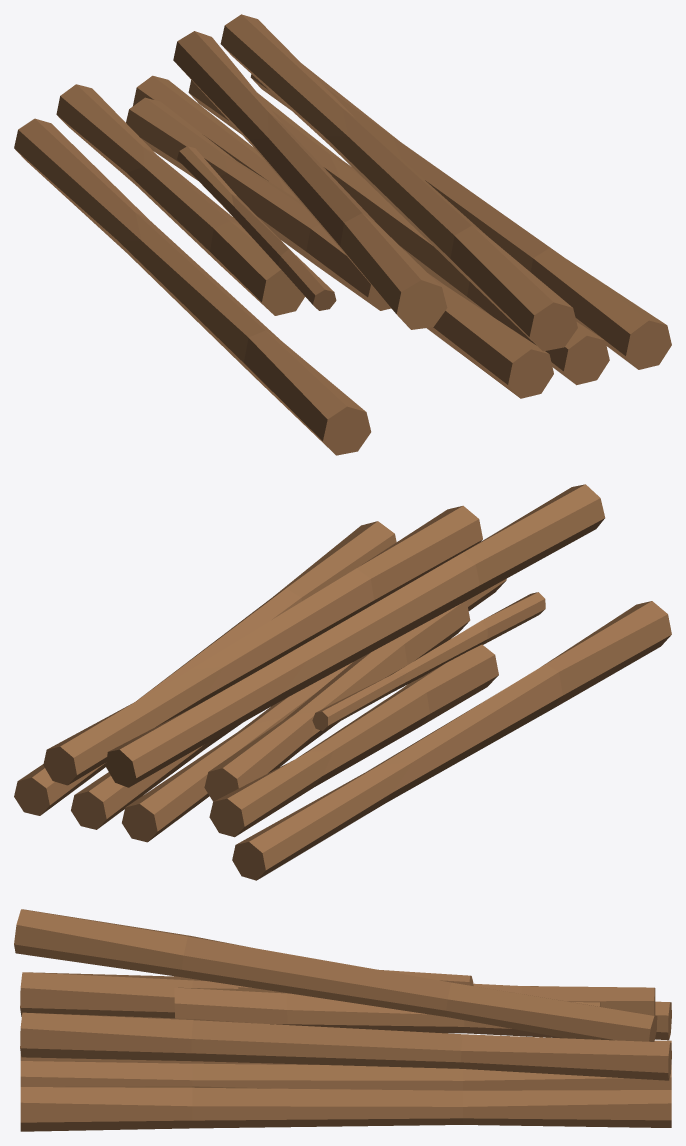
The model's file is Woodpile_1.fbx.
3 renders of one model, top to bottom at view 1: azimuth 30°, elevation 25°; view 2: azimuth 150°, elevation 25°; view 3: azimuth 270°, elevation 25°, orthographic. The views are drawn at different scales.
Visible parts, largest first — view 1: Woodpile_mesh; view 2: Woodpile_mesh; view 3: Woodpile_mesh.
Boxes of the visible parts, <box> form: Woodpile_mesh: <box>14,14,671,455</box>; Woodpile_mesh: <box>14,484,671,880</box>; Woodpile_mesh: <box>14,909,671,1131</box>.
Size of the model in its own units: 74.14 by 31.89 by 142.
